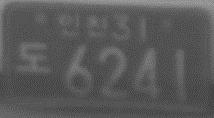1: (169, 49, 195, 97), (134, 17, 155, 42)
2: (98, 46, 130, 96)
3: (111, 14, 131, 41)
4: (133, 48, 164, 96)
6: (64, 44, 94, 95)
도: (15, 42, 50, 73)
인천_O: (57, 13, 109, 39)
